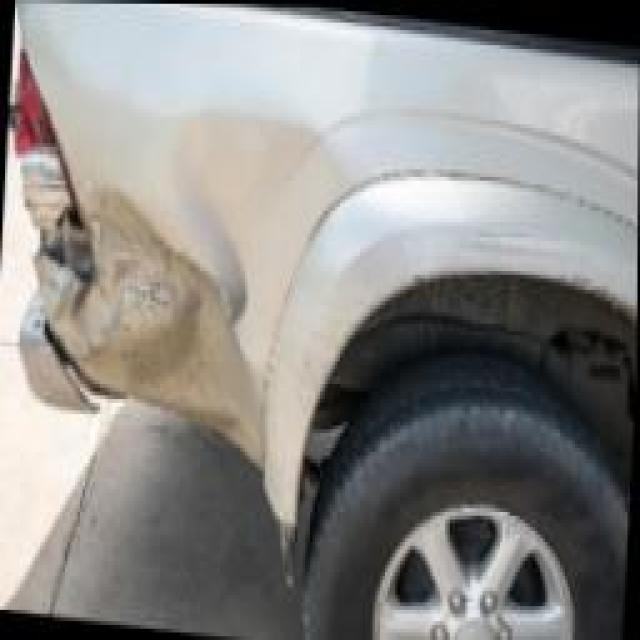Fender: (33, 105, 333, 429)
Light: (11, 47, 84, 256)
